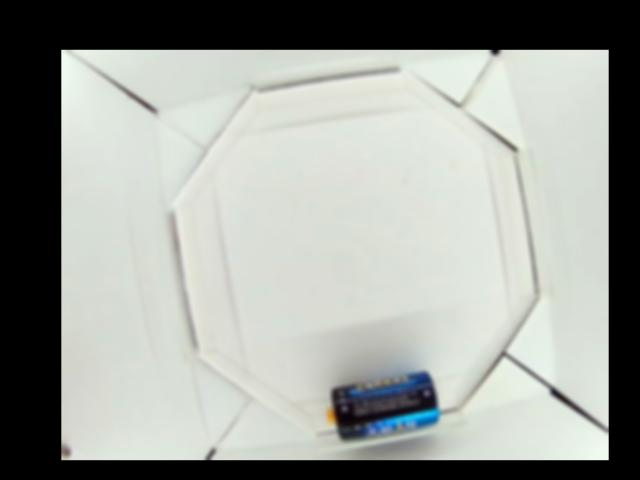Battery: (328, 373, 439, 442)
